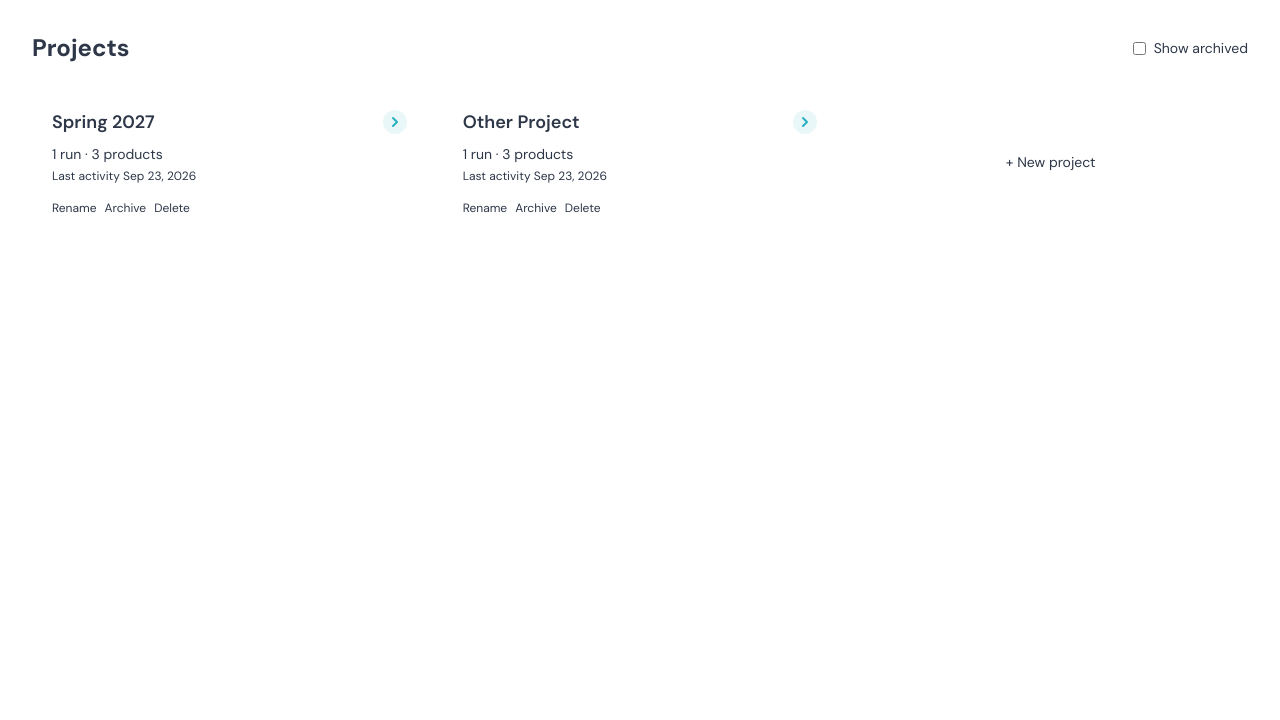
Scenario: ProjectsGrid › resets the disposition choice to archive for each new delete target (no carryover between projects)
Click the button with aria-label "Delete Spring 2027".
click(172, 208)  # box [154,200,190,216]
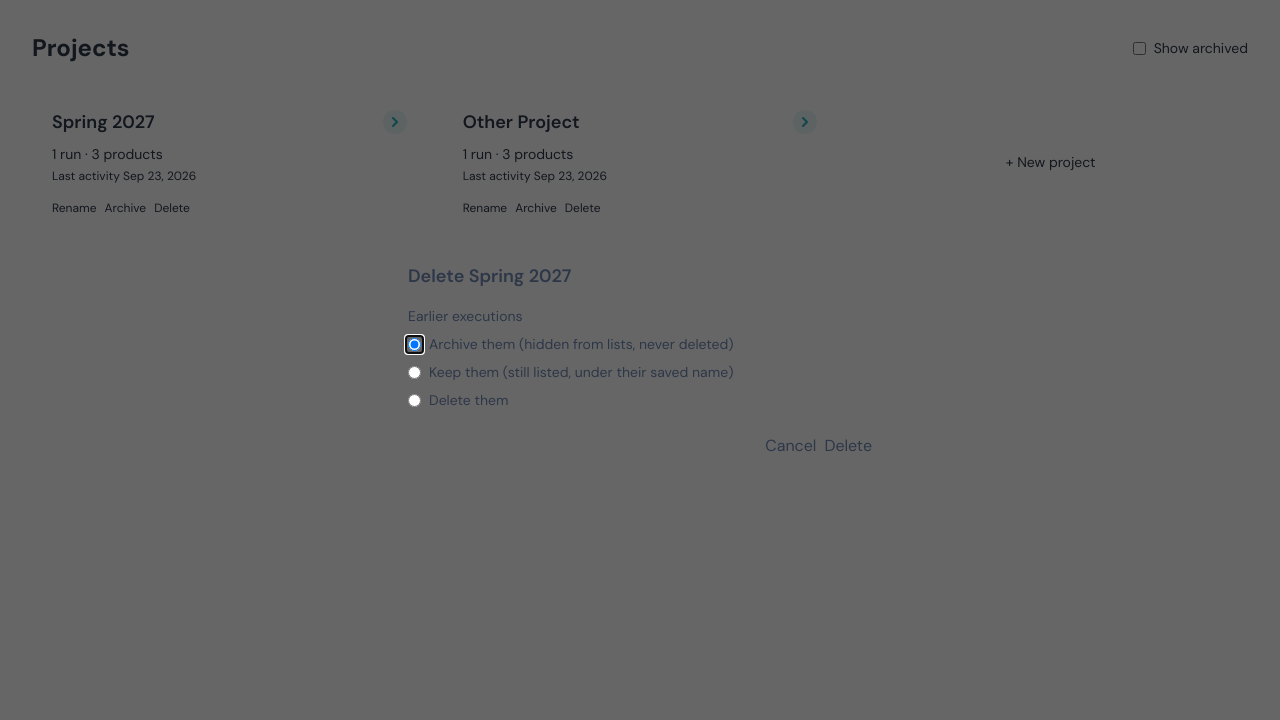
Click the radio button labelled "Delete them".
click(414, 400)  # box [408,394,421,406]
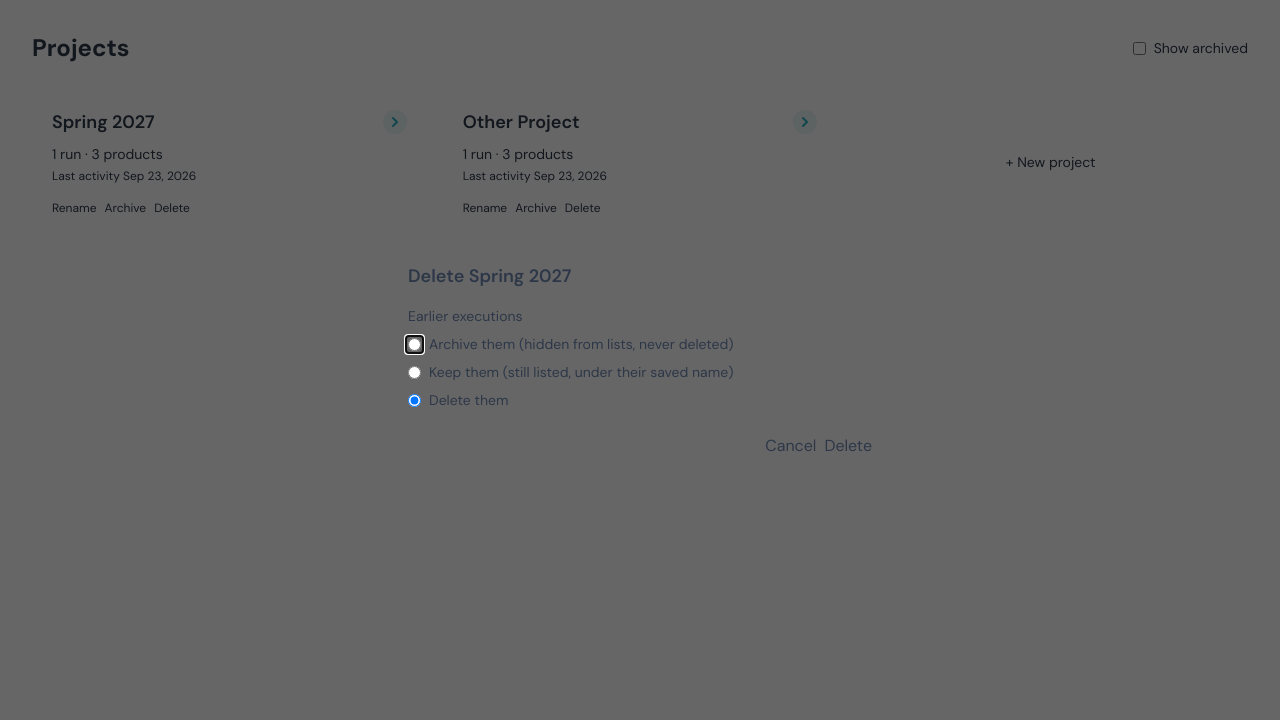
Click the button "Cancel".
click(791, 446)  # box [765,434,816,458]
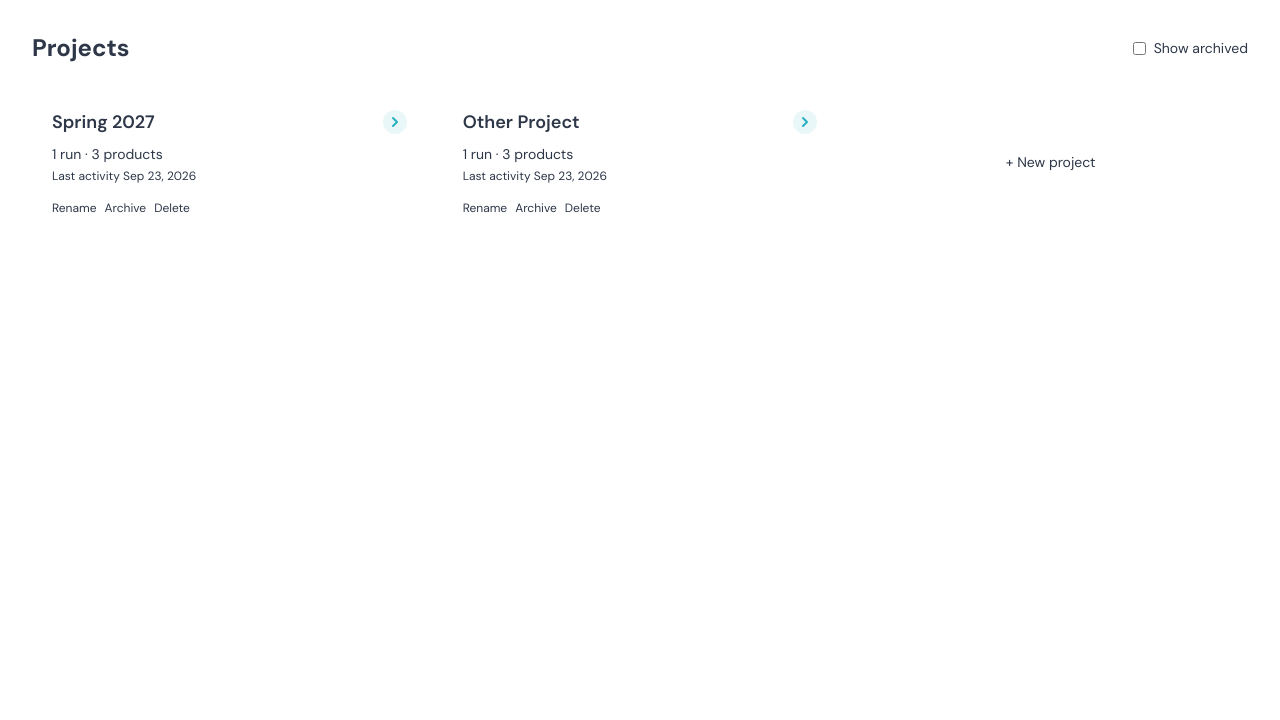
Click the button with aria-label "Delete Other Project".
click(583, 208)  # box [565,200,600,216]
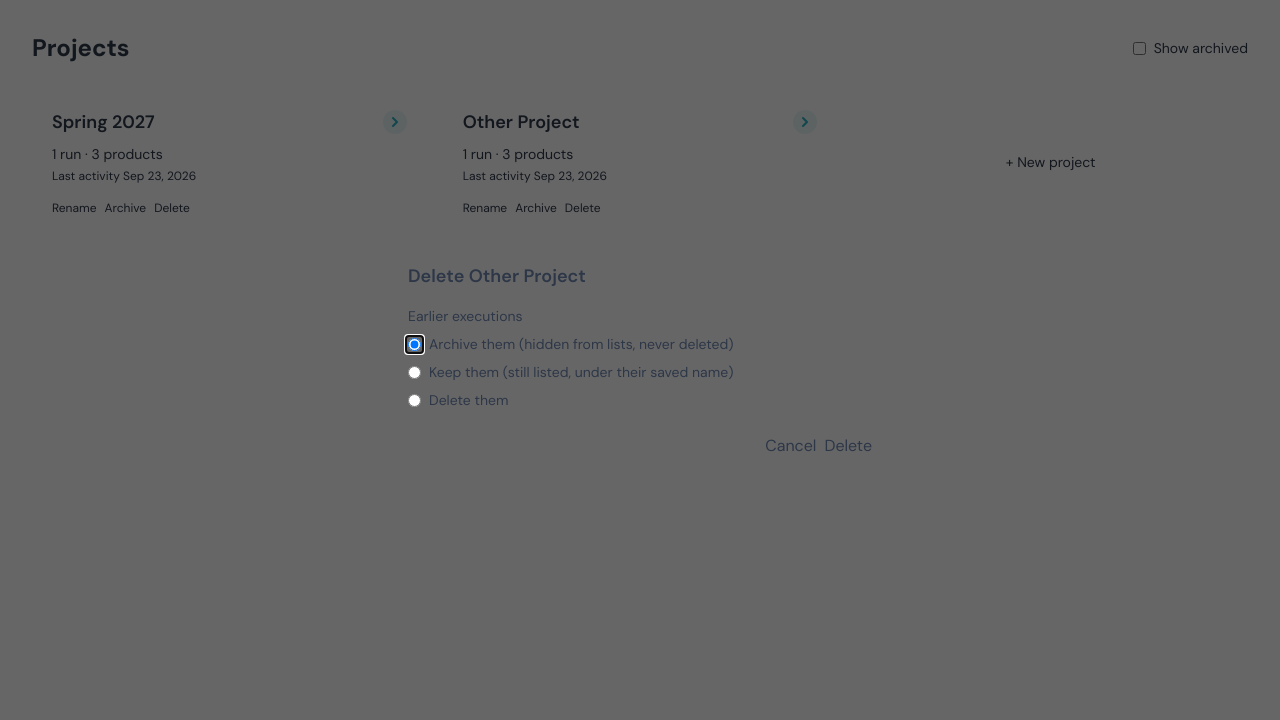
Now the radio button labelled "Archive them (hidden from lists, never deleted)" is checked, box [408,338,421,350]
